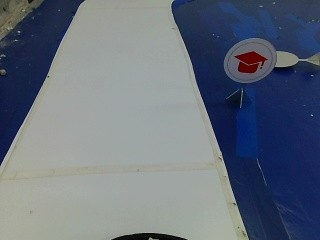school: (222, 37, 276, 85)
